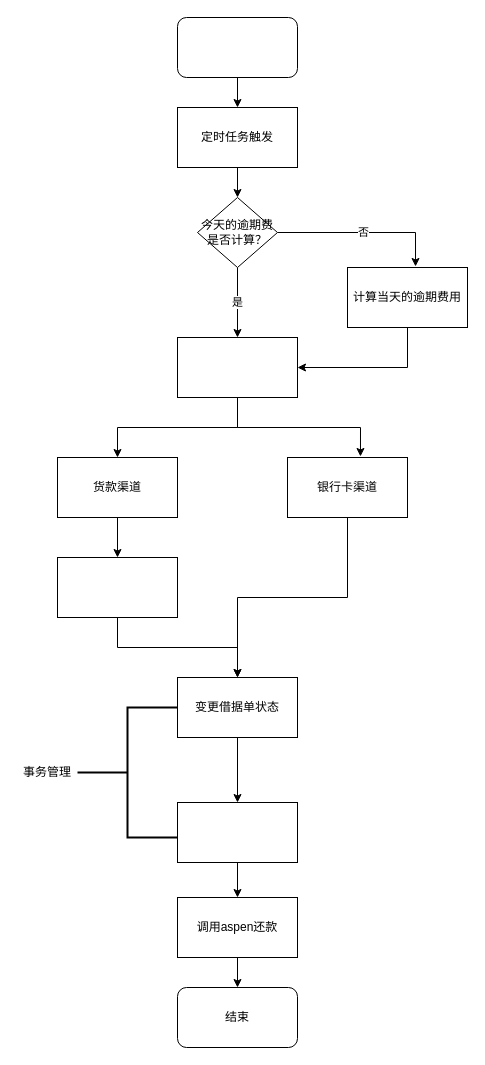
The diagram is 485 pixels wide and 1065 high, and some of its shapes have lost their labels. Each missing label, with the box of its shape:
开始: (176, 16, 298, 78)
开始还款: (176, 336, 298, 398)
构造还款单: (176, 802, 298, 862)
计算商户的可用余额: (56, 556, 178, 618)
